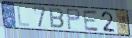2: (101, 11, 116, 34)
7: (33, 6, 47, 29)
B: (49, 8, 66, 30)
E: (82, 10, 100, 33)
L: (16, 5, 31, 28)
P: (65, 8, 82, 31)
